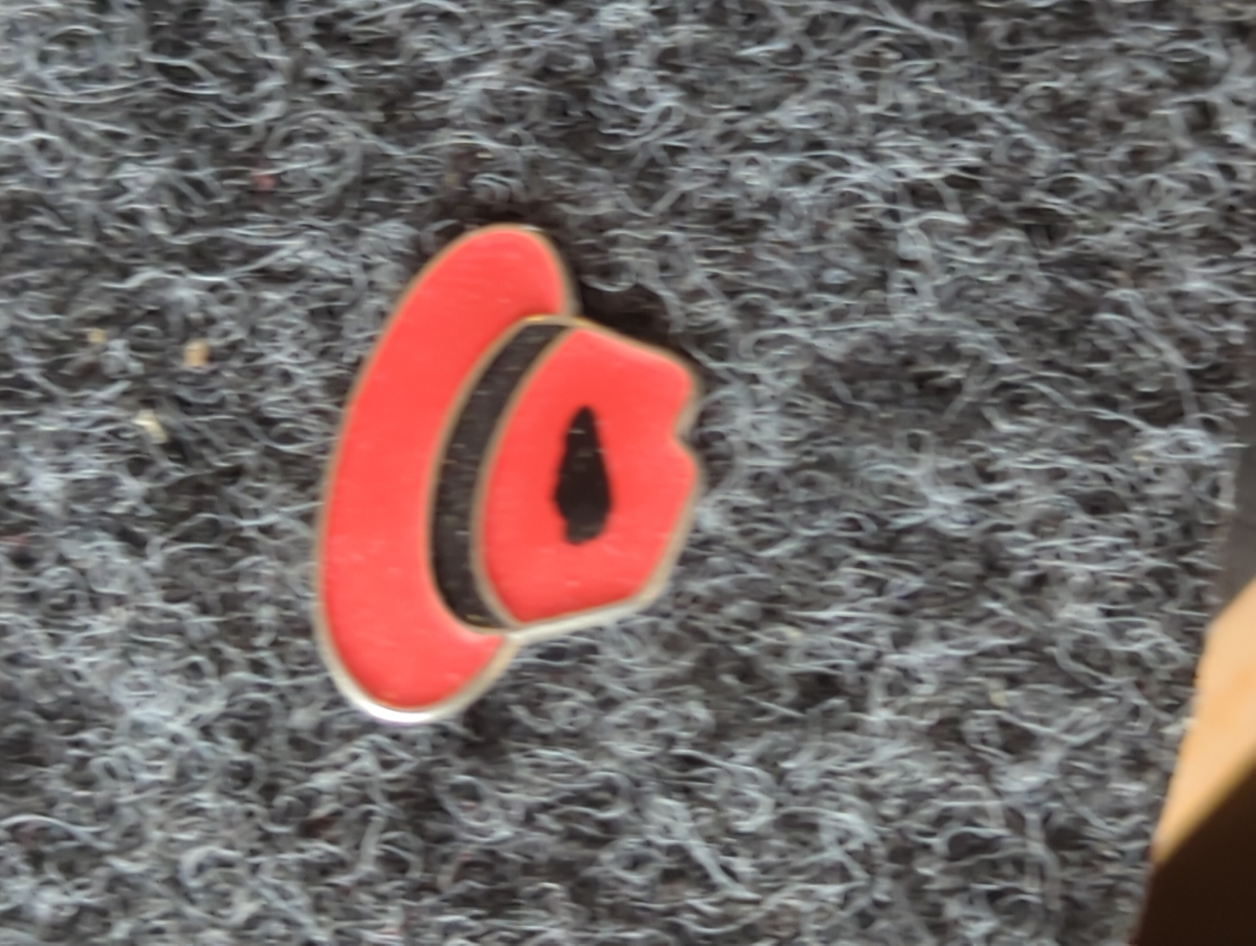Red-Hat: (231, 125, 818, 796)
Scratch: (515, 371, 648, 580)
